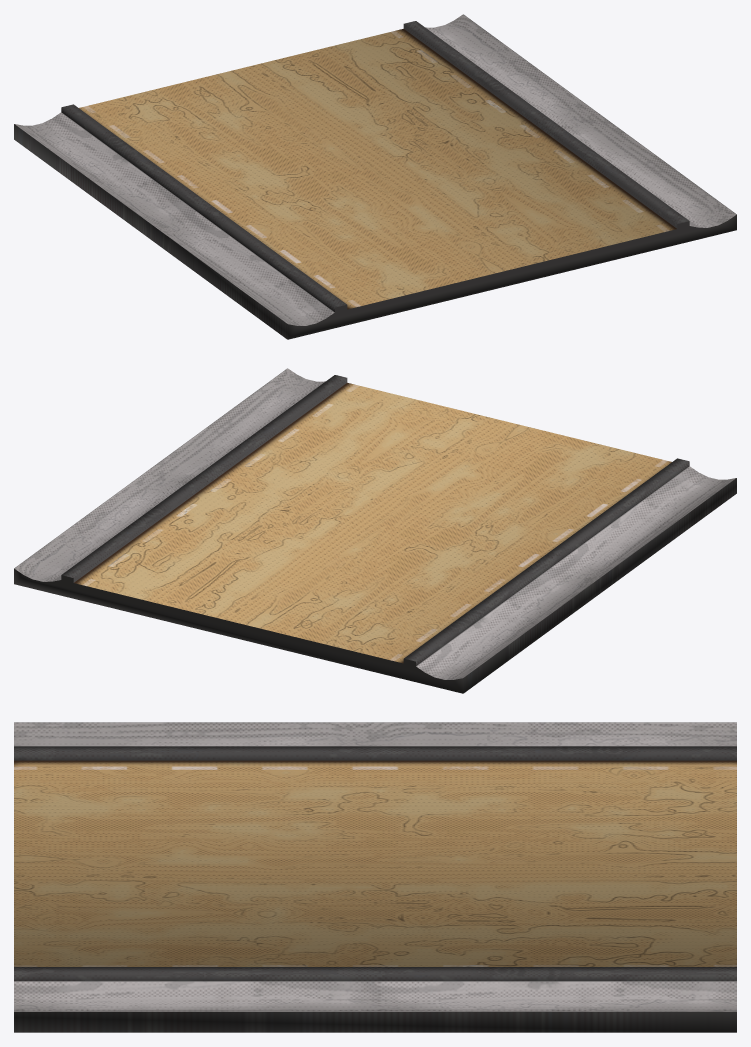
Rendered from SM_BLane.glb.
The picture shows the model from 3 angles, top to bottom: view 1: azimuth 30°, elevation 25°; view 2: azimuth 150°, elevation 25°; view 3: azimuth 270°, elevation 25°; orthographic projection. The views are drawn at different scales.
Parts seen in each view (by area): view 1: SM_BLane; view 2: SM_BLane; view 3: SM_BLane.
Boxes of the visible parts, x1,y1,x2,y2 form: SM_BLane: (14,14,736,339); SM_BLane: (14,368,736,693); SM_BLane: (14,722,736,1032).
Bounding box in the file's own units: 1.9 × 0.0832 × 2.
1 material, 1 textured.
